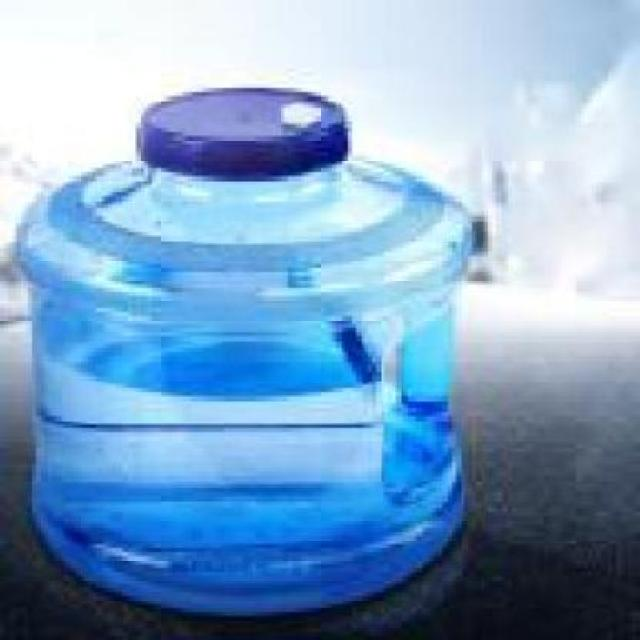coolerbottle: (9, 78, 485, 620)
